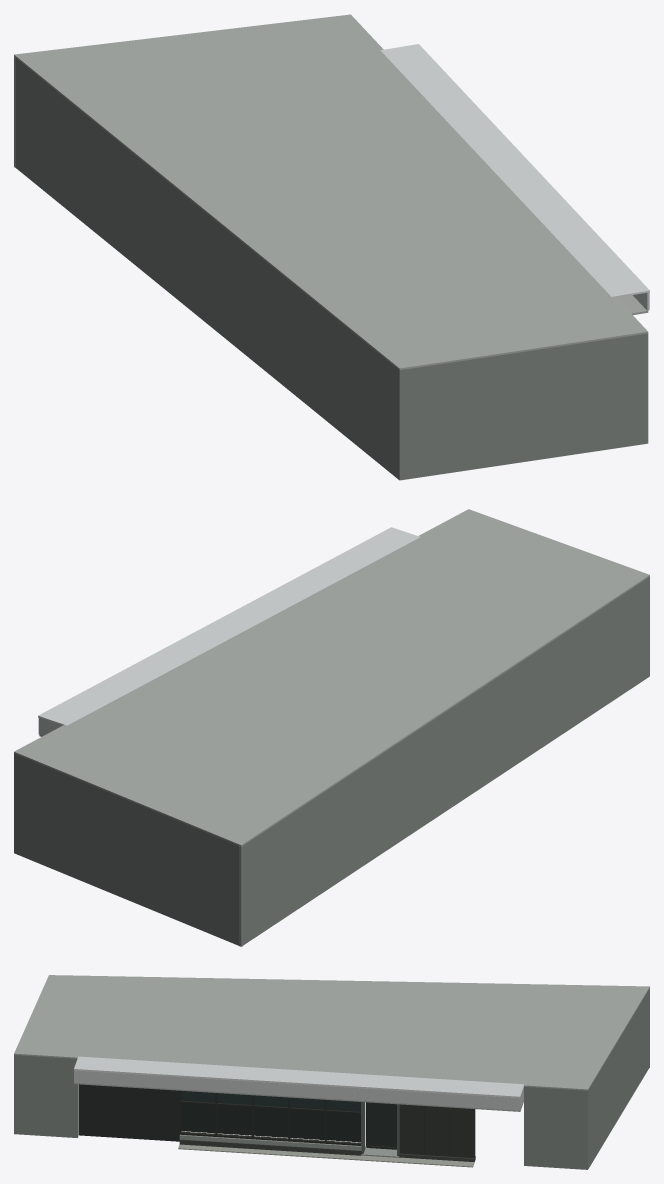
The model's file is d11-miyashita-parkcenter.glb.
3 renders of one model, top to bottom at view 1: azimuth 30°, elevation 25°; view 2: azimuth 150°, elevation 25°; view 3: azimuth 270°, elevation 25°, orthographic. The views are drawn at different scales.
Visible parts, largest first — view 1: 01_observed_continuous_fascia; view 2: 01_observed_continuous_fascia; view 3: 01_observed_continuous_fascia.
Boxes of the visible parts, left/top/right/bottom form: 01_observed_continuous_fascia: left=14, top=14, right=649, bottom=480; 01_observed_continuous_fascia: left=14, top=509, right=649, bottom=946; 01_observed_continuous_fascia: left=14, top=975, right=649, bottom=1169.
Size of the model in its own units: 10.34 by 3.19 by 22.84.
Materials: 1 (1 with a texture image).
